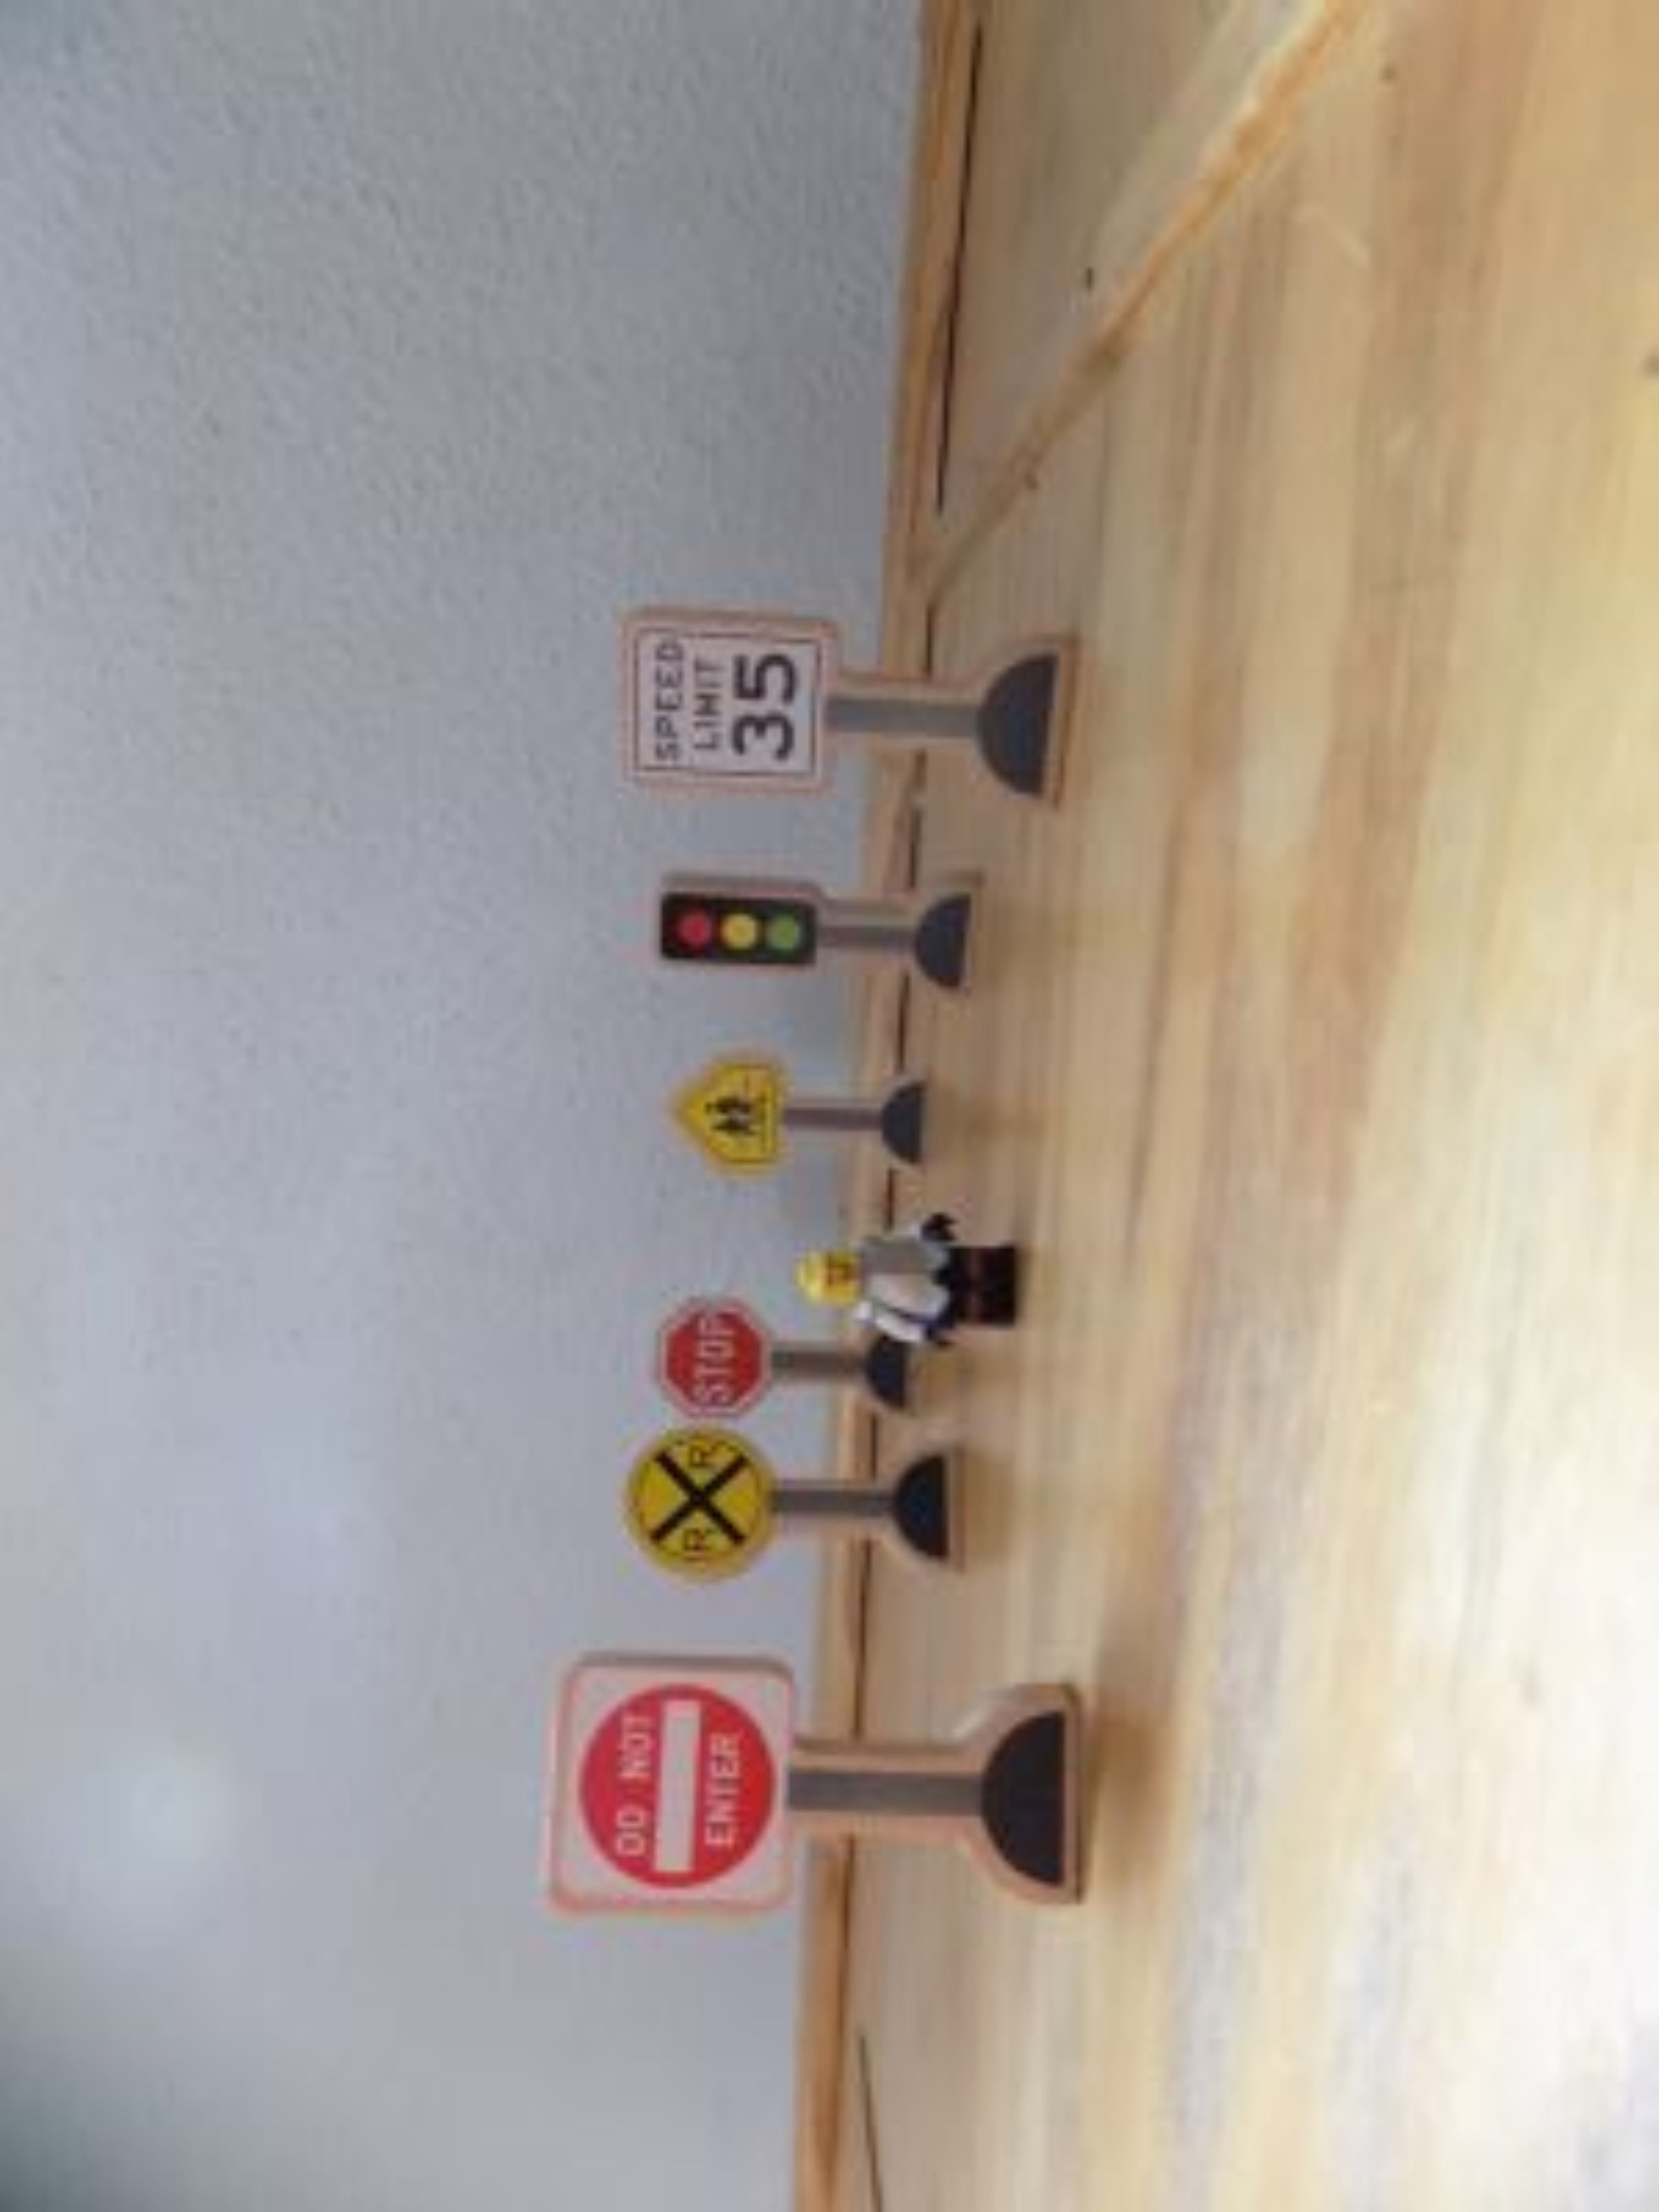Do Not Enter: (284, 538, 574, 819)
Pedestrians: (1035, 663, 1160, 790)
Person: (870, 800, 1004, 1032)
Rail Road Sign: (640, 606, 789, 792)
Red Traffic Light: (1237, 637, 1346, 833)
Speed Limit 35: (1418, 620, 1632, 845)
Stop Sign: (793, 656, 916, 785)
